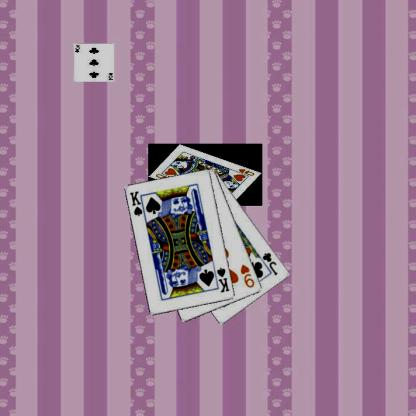9H: (238, 262, 256, 289)
JC: (260, 250, 279, 276)
KS: (127, 188, 147, 218), (214, 265, 231, 294)
